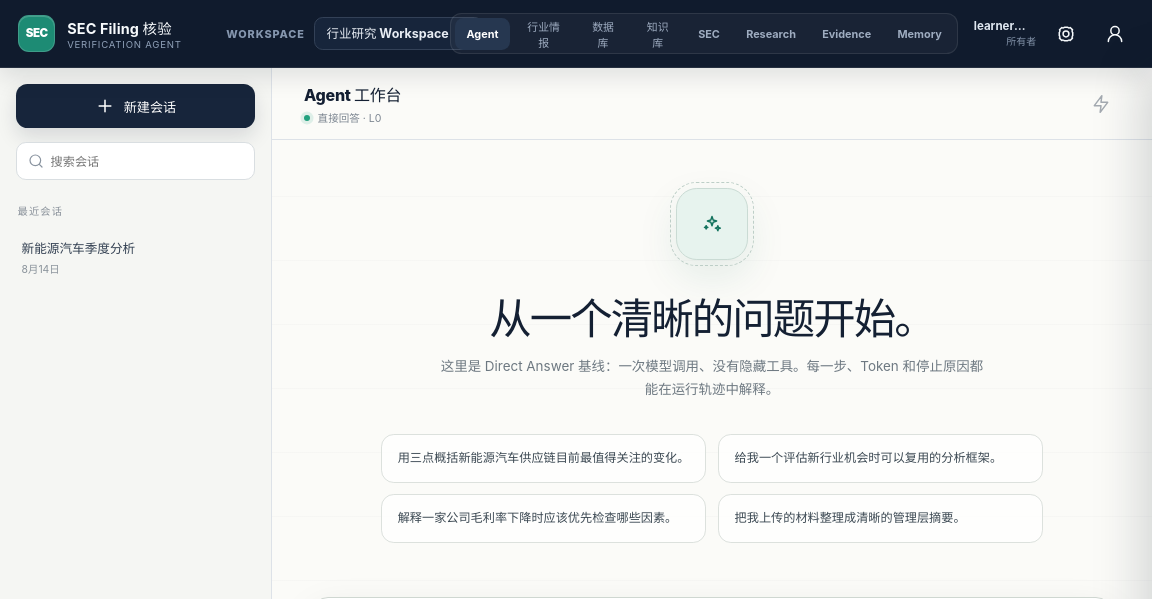
Chat Workbench › reopens a confirmed Memory revision from the persisted candidate after refresh
The width and height of the screenshot is (1152, 599).
Click the button "新能源汽车季度分析 8月14日" at (132, 257), box top-left (10, 227), bottom-right (254, 288)
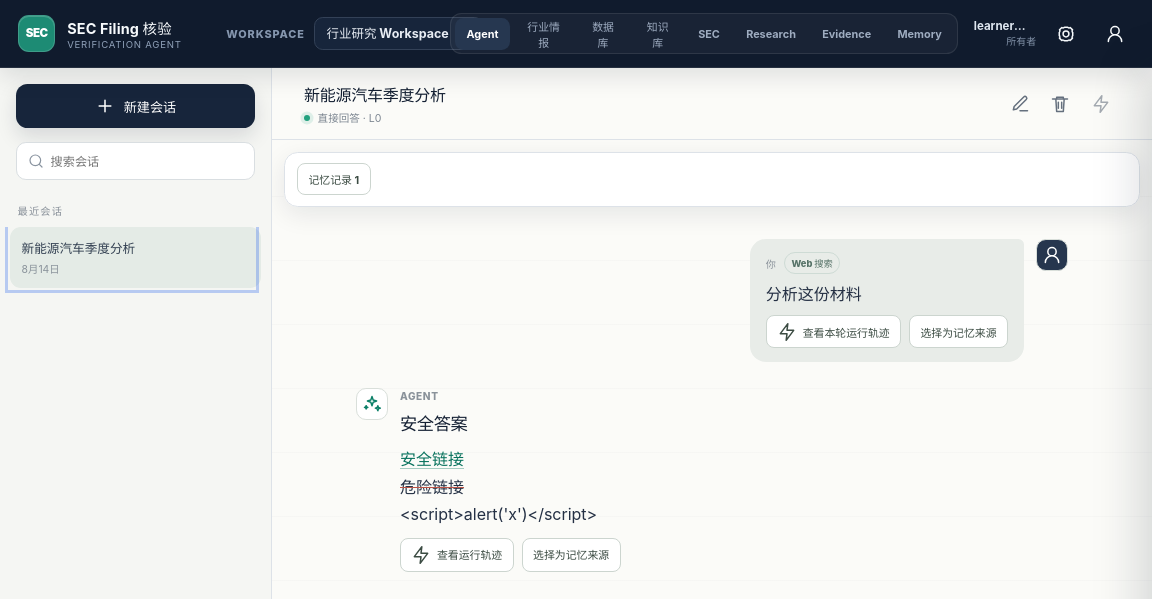
Click the button "记忆记录 1" at (334, 179), box top-left (297, 163), bottom-right (371, 195)
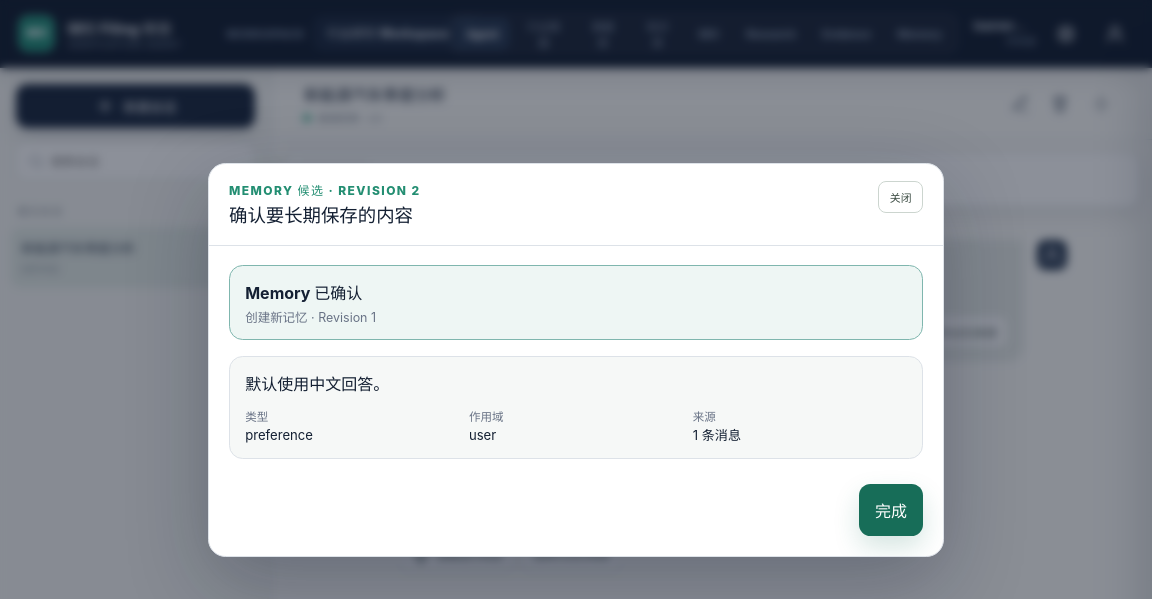
expect the text "Memory 已确认" is shown: met, box top-left (245, 283), bottom-right (362, 303)
expect the text "默认使用中文回答。" is shown: met, box top-left (245, 374), bottom-right (389, 394)
